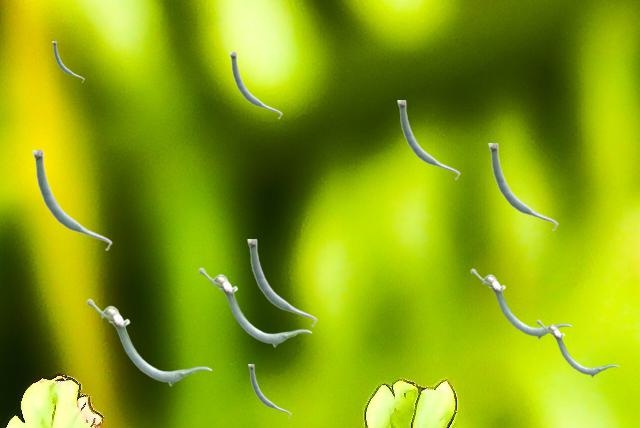french_bean: (86, 298, 211, 385), (198, 267, 311, 346), (32, 150, 111, 250), (470, 268, 571, 338), (488, 143, 557, 230), (247, 239, 316, 326), (397, 100, 459, 179), (536, 319, 618, 376), (229, 52, 281, 118), (248, 364, 290, 417), (52, 41, 83, 81)
